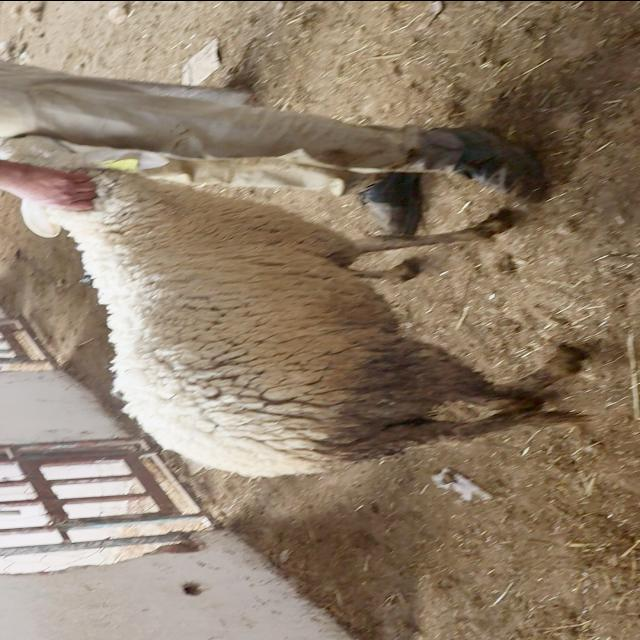Score_3: (0, 134, 583, 476)
